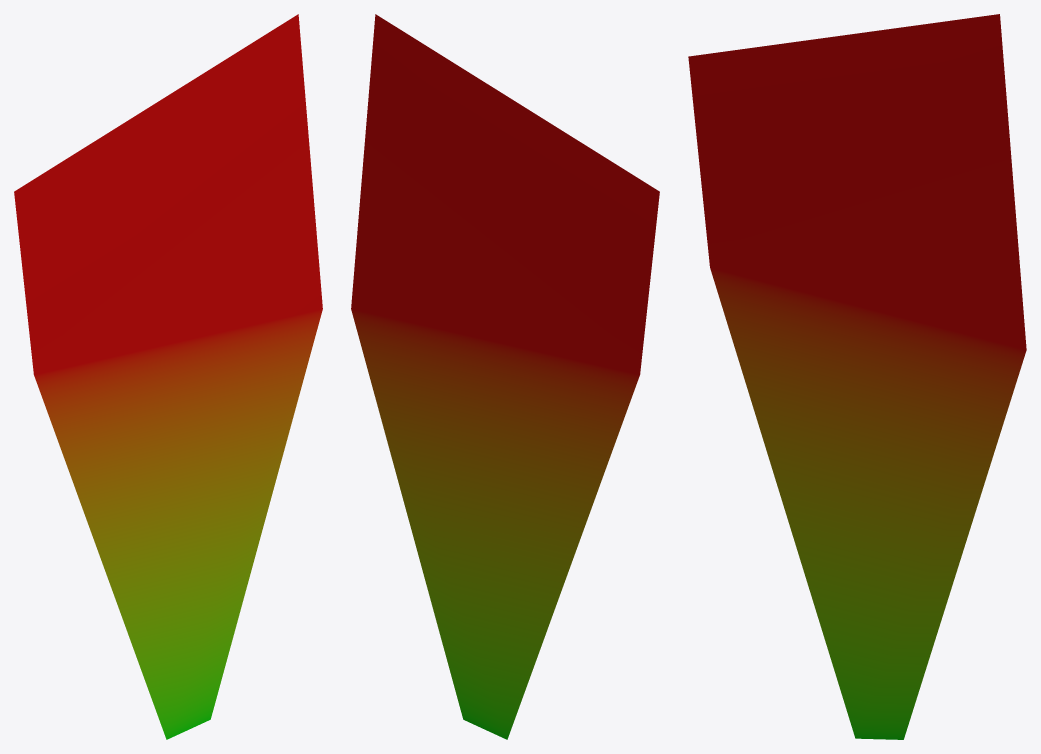
Rendered from Chamomile_LOD4_Var5.fbx.
The picture shows the model from 3 angles, left to right: view 1: azimuth 30°, elevation 25°; view 2: azimuth 150°, elevation 25°; view 3: azimuth 330°, elevation 25°; orthographic projection. The views are drawn at different scales.
Visible parts, largest first — view 1: _3mgv_Var5_LOD4; view 2: _3mgv_Var5_LOD4; view 3: _3mgv_Var5_LOD4.
Part boxes in pixels (x1,y1,x2,y2): _3mgv_Var5_LOD4: (14,14,322,739); _3mgv_Var5_LOD4: (351,14,659,739); _3mgv_Var5_LOD4: (688,14,1026,739).
Bounding box in the file's own units: 24.31 × 52.17 × 6.22e-06.
